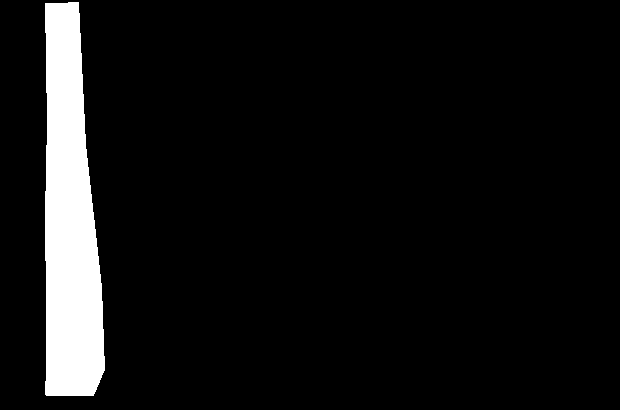type5: (39, 1, 110, 399)
